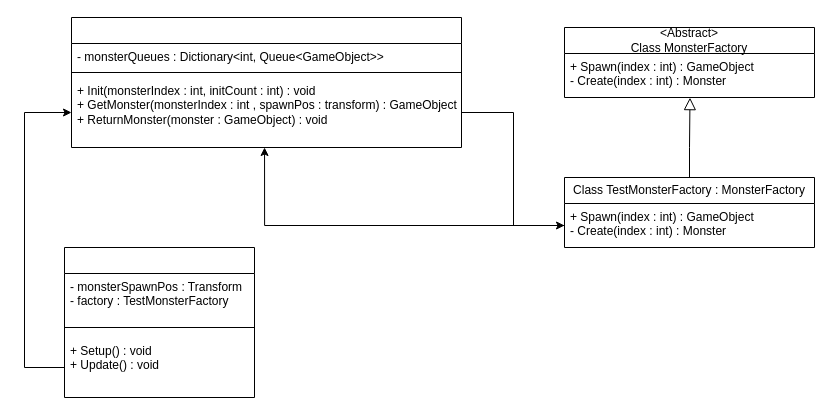
This 832x418 diagram has some shape labels left out. Here are the shapes that lost their labels. From the top down, the box of each, then its label:
(70, 16, 462, 148): Class MonsterObjectPool
(64, 246, 254, 398): Class Town : Stage
